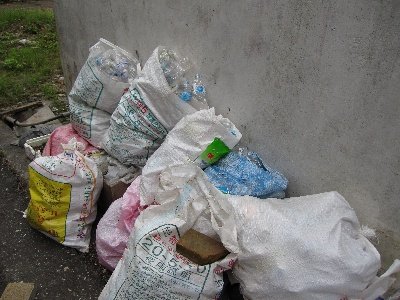plastic_bag: (98, 163, 238, 300), (221, 191, 382, 300), (105, 45, 207, 168), (25, 138, 97, 255), (68, 39, 138, 150)
